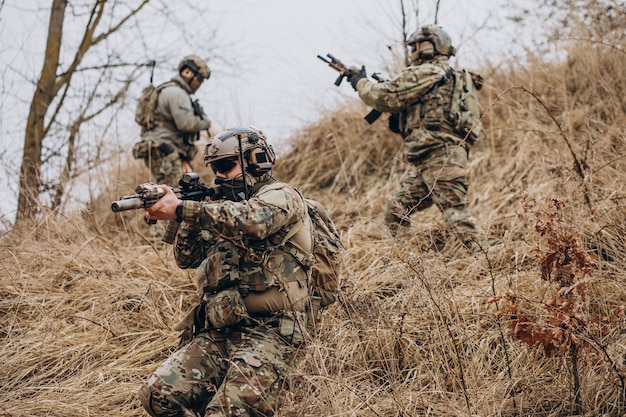gun: (108, 172, 246, 247), (314, 51, 386, 125), (189, 97, 214, 139)
